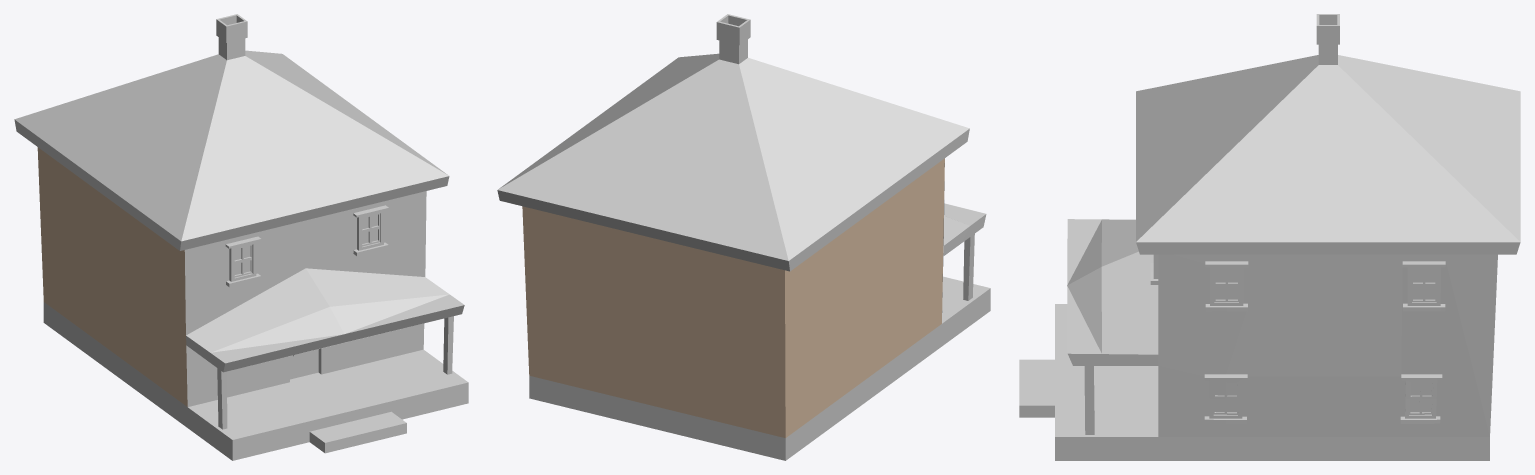
Rendered from House03281.fbx.
The picture shows the model from 3 angles, left to right: view 1: azimuth 30°, elevation 25°; view 2: azimuth 150°, elevation 25°; view 3: azimuth 270°, elevation 25°; orthographic projection. The views are drawn at different scales.
Parts seen in each view (by area): view 1: House1; view 2: House1; view 3: House1.
Part boxes in pixels (left/top/right/bottom): House1: left=14, top=14, right=468, bottom=460; House1: left=497, top=14, right=990, bottom=460; House1: left=1019, top=14, right=1520, bottom=460.
Bounding box in the file's own units: 122 × 142 × 172.
